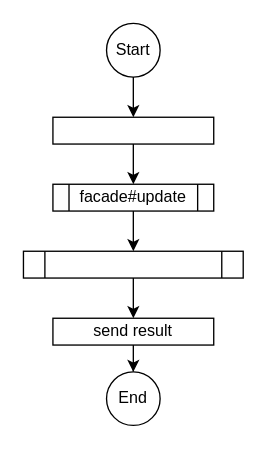
The diagram is 267 pixels wide and 449 high, and some of its shapes have lost their labels. The shapes that lost their labels are listed below. From the top down, each one's box as (x1, y1, x2, y2) in pixels, then its label:
(52, 116, 214, 144): controller#update
(22, 250, 243, 278): facade#experimentById
